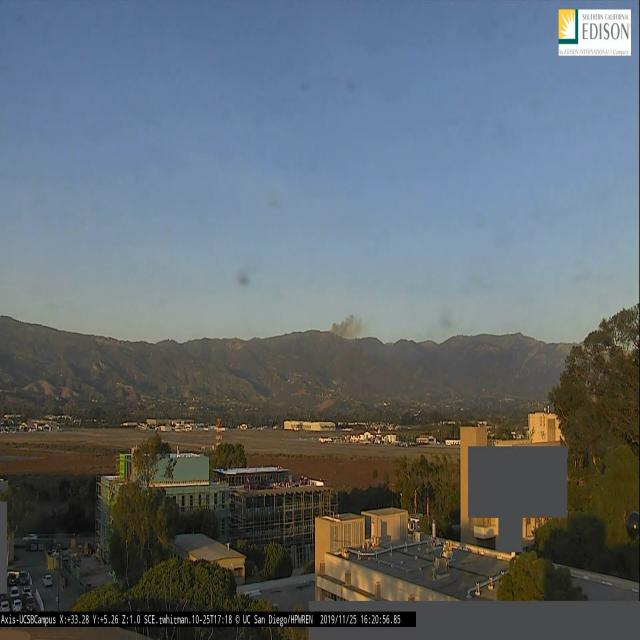smoke: (326, 310, 363, 341)
